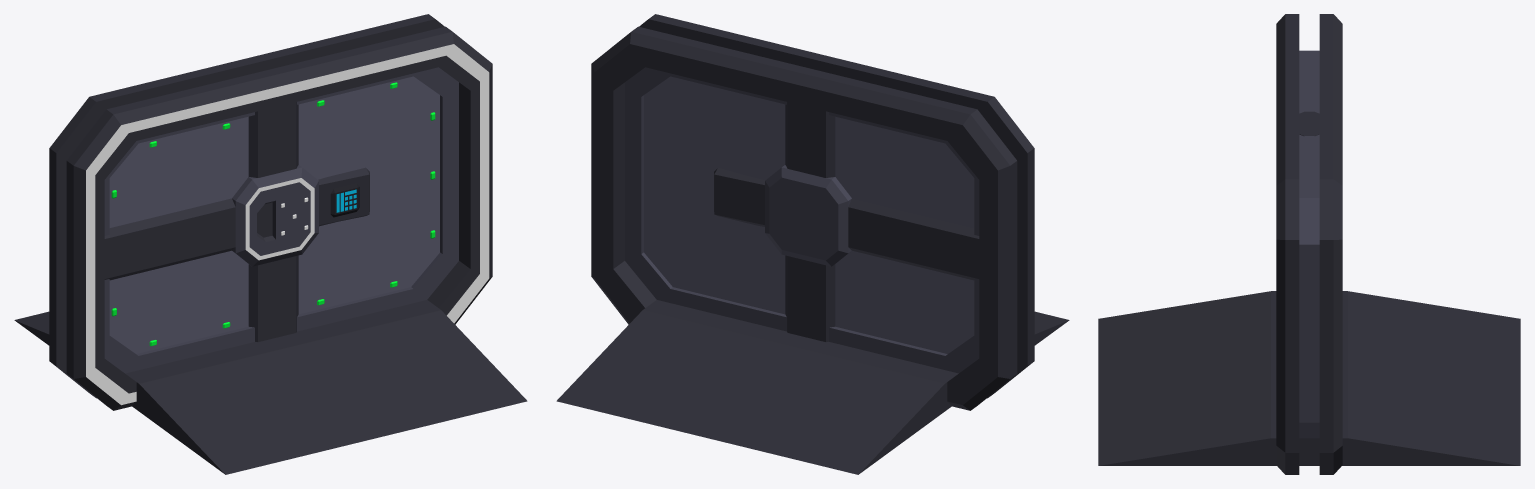
Rendered from Door Big 01.fbx.
The picture shows the model from 3 angles, left to right: view 1: azimuth 30°, elevation 25°; view 2: azimuth 150°, elevation 25°; view 3: azimuth 270°, elevation 25°; orthographic projection.
Parts seen in each view (by area): view 1: Door_Big_01, Door_Right, Door_Left; view 2: Door_Big_01, Door_Right, Door_Left; view 3: Door_Big_01, Door_Right, Door_Left.
Part boxes in pixels (x1=…): Door_Big_01: x1=14, y1=14, x2=527, y2=474; Door_Right: x1=232, y1=67, x2=458, y2=337; Door_Left: x1=104, y1=107, x2=277, y2=373; Door_Big_01: x1=556, y1=14, x2=1069, y2=474; Door_Right: x1=625, y1=67, x2=851, y2=337; Door_Left: x1=806, y1=107, x2=979, y2=373; Door_Big_01: x1=1098, y1=14, x2=1520, y2=474; Door_Right: x1=1299, y1=124, x2=1319, y2=438; Door_Left: x1=1299, y1=50, x2=1319, y2=123.
Bounding box in the file's own units: 437 × 296 × 382.
